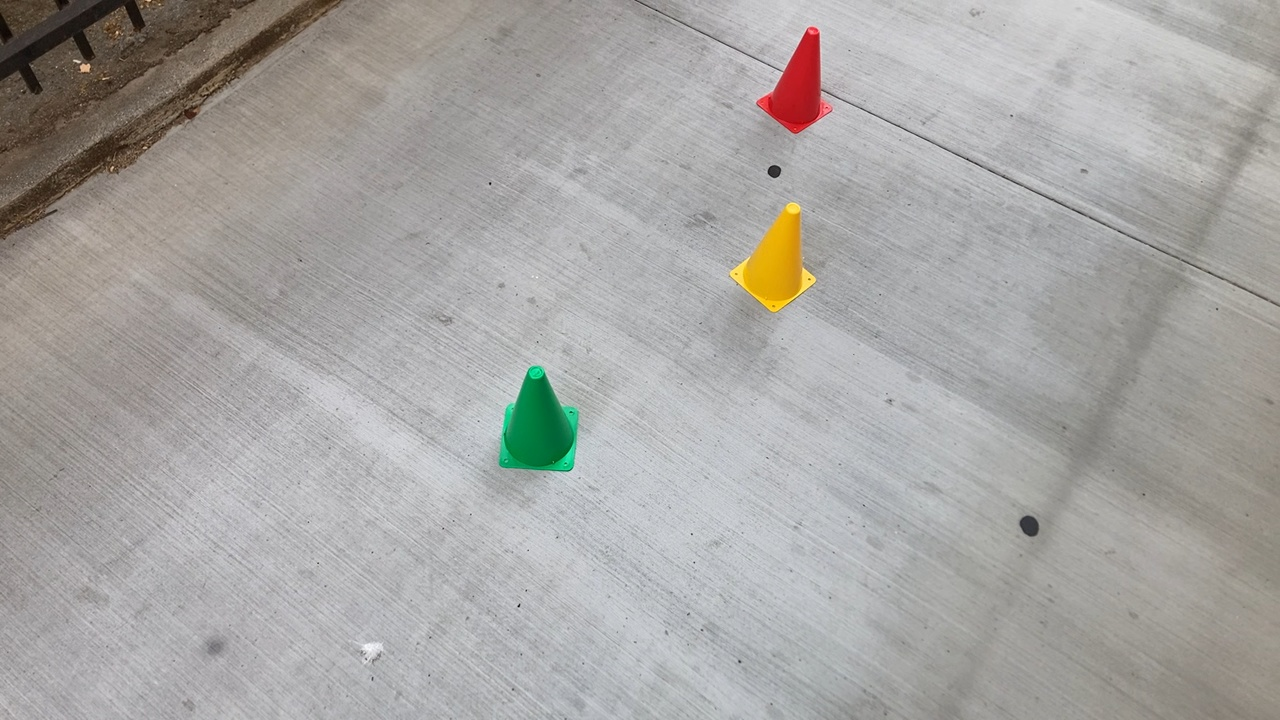green_cone: (495, 358, 582, 477)
red_cone: (750, 23, 836, 139)
yellow_cone: (728, 196, 818, 319)
